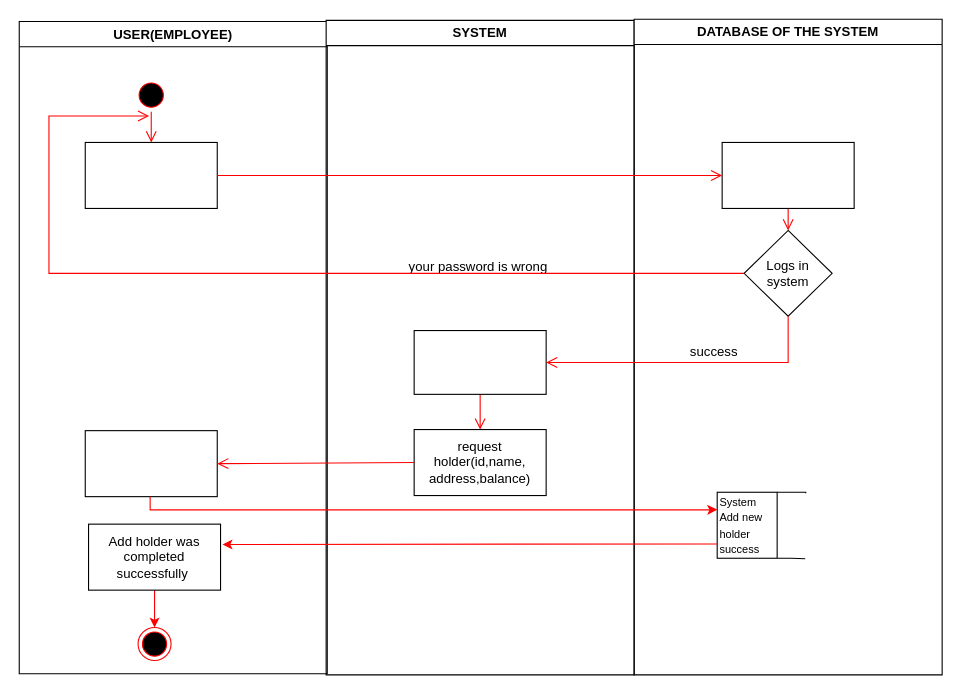
The diagram is 961 pixels wide and 694 high, and some of its shapes have lost their labels. The box of each missing label's shape, as (x1, y1, x2, y2) in pixels:
choose 1.Add new holder: (413, 329, 546, 394)
holder(id,name, address,balance) entered: (84, 430, 217, 497)
Log in to the system Enter password: (84, 141, 217, 208)
Verify password: (721, 141, 854, 208)
